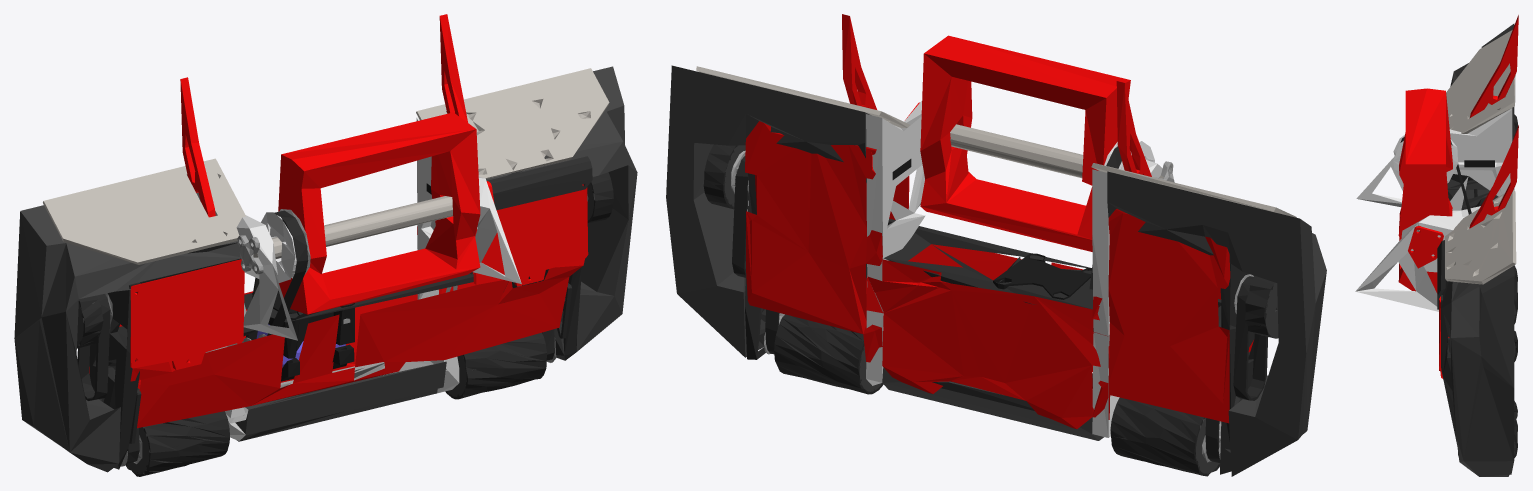
Rendered from rig.lod1.glb.
The picture shows the model from 3 angles, left to right: view 1: azimuth 30°, elevation 25°; view 2: azimuth 150°, elevation 25°; view 3: azimuth 270°, elevation 25°; orthographic projection. The views are drawn at different scales.
Parts seen in each view (by area): view 1: Central_Top_Plate_1, Revised-asymmetrical_weapon_v1_1, Component149_1, Component159_1, Component158_1, Front_Top_Plate_Left_1, Component148_1, Core_Upright_Rail_Right_1, Front_Top_Plate_Right_1, Component145_1, MK3_Cast_Rear_Wheels_v9_1, MK3_Cast_Rear_Wheels_v9_1_1 (+16 smaller); view 2: Central_Bottom_Plate_1, Left_Bottom_Plate_Mirror_1, Component149_1, Revised-asymmetrical_weapon_v1_1, Component148_1, Left_Bottom_Plate_1, Core_Upright_Rail_Right_1, MK3_Cast_Rear_Wheels_v9_1, MK3_Cast_Rear_Wheels_v9_1_1, Central_Frame_Rail_1, Component145_1, Component157_1 (+12 smaller); view 3: Component148_1, Core_Upright_Rail_Right_1, Revised-asymmetrical_weapon_v1_1, Component158_1, Component159_1, Rhino_Fork_v13_v2_2, Rhino_Fork_v13_v2_1, Shaft_End_Stop_Right_1, Outer_Wall_Rail_Right_1, Component149_1, 1277N771_Timing_Belt_Pulley_v2_1, Component151_1 (+6 smaller).
Boxes of the visible parts, x1=… form: Central_Top_Plate_1: x1=130, y1=258, x2=584, y2=428; Revised-asymmetrical_weapon_v1_1: x1=278, y1=112, x2=480, y2=314; Component149_1: x1=14, y1=176, x2=240, y2=472; Component159_1: x1=43, y1=158, x2=245, y2=264; Component158_1: x1=416, y1=68, x2=609, y2=178; Front_Top_Plate_Left_1: x1=130, y1=259, x2=244, y2=369; Component148_1: x1=486, y1=66, x2=637, y2=352; Core_Upright_Rail_Right_1: x1=205, y1=117, x2=521, y2=440; Front_Top_Plate_Right_1: x1=473, y1=184, x2=588, y2=286; Component145_1: x1=235, y1=361, x2=446, y2=441; MK3_Cast_Rear_Wheels_v9_1: x1=120, y1=411, x2=229, y2=476; MK3_Cast_Rear_Wheels_v9_1_1: x1=445, y1=332, x2=556, y2=399; Central_Bottom_Plate_1: x1=866, y1=259, x2=1108, y2=428; Left_Bottom_Plate_Mirror_1: x1=745, y1=121, x2=882, y2=362; Component149_1: x1=1107, y1=171, x2=1326, y2=476; Revised-asymmetrical_weapon_v1_1: x1=920, y1=35, x2=1130, y2=251; Component148_1: x1=666, y1=65, x2=869, y2=357; Left_Bottom_Plate_1: x1=1092, y1=209, x2=1230, y2=423; Core_Upright_Rail_Right_1: x1=866, y1=100, x2=1162, y2=437; MK3_Cast_Rear_Wheels_v9_1: x1=1110, y1=397, x2=1221, y2=476; MK3_Cast_Rear_Wheels_v9_1_1: x1=764, y1=313, x2=883, y2=394; Central_Frame_Rail_1: x1=883, y1=218, x2=1221, y2=326; Component145_1: x1=882, y1=367, x2=1103, y2=440; Component157_1: x1=950, y1=124, x2=1163, y2=178; Component148_1: x1=1441, y1=265, x2=1514, y2=476; Core_Upright_Rail_Right_1: x1=1355, y1=108, x2=1512, y2=311; Revised-asymmetrical_weapon_v1_1: x1=1398, y1=88, x2=1452, y2=293; Component158_1: x1=1445, y1=189, x2=1516, y2=284; Component159_1: x1=1446, y1=30, x2=1515, y2=133; Rhino_Fork_v13_v2_2: x1=1469, y1=125, x2=1518, y2=228; Rhino_Fork_v13_v2_1: x1=1470, y1=15, x2=1518, y2=117; Shaft_End_Stop_Right_1: x1=1408, y1=226, x2=1443, y2=268; Outer_Wall_Rail_Right_1: x1=1441, y1=295, x2=1509, y2=476; Component149_1: x1=1450, y1=23, x2=1514, y2=198; 1277N771_Timing_Belt_Pulley_v2_1: x1=1393, y1=135, x2=1458, y2=183; Component151_1: x1=1437, y1=240, x2=1445, y2=309.
Size of the model in its own units: 0.503 by 0.2914 by 0.1352.
